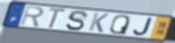J: (132, 17, 154, 37)
K: (88, 12, 111, 34)
Q: (108, 14, 131, 36)
R: (19, 5, 45, 28)
S: (64, 10, 90, 32)
T: (47, 7, 68, 30)
